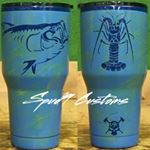cups: (1, 1, 75, 150), (77, 1, 150, 147)
